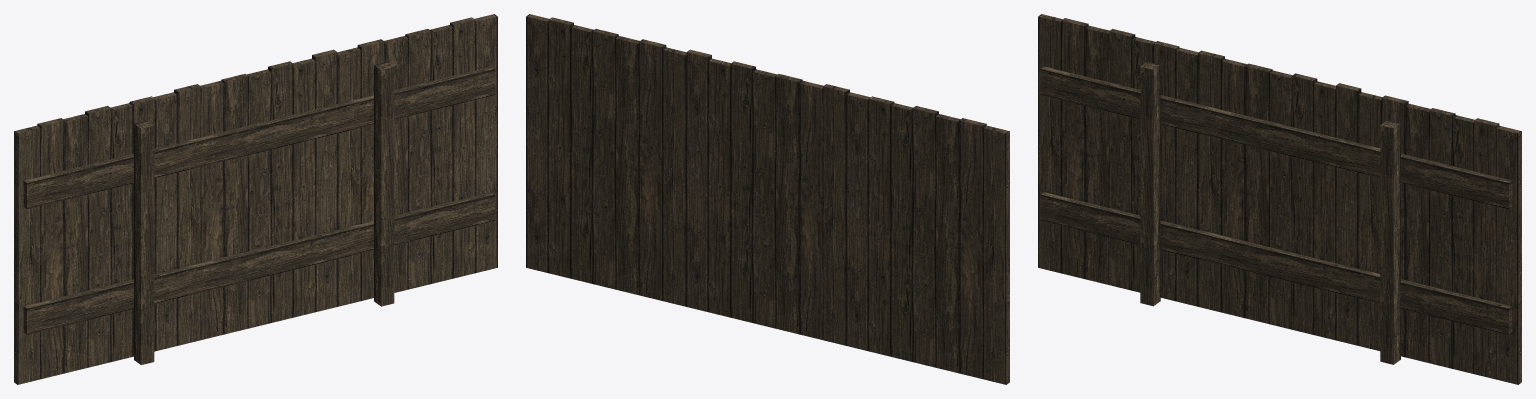
The model's file is fence_a_1.glb.
The picture shows the model from 3 angles, left to right: view 1: azimuth 30°, elevation 25°; view 2: azimuth 150°, elevation 25°; view 3: azimuth 330°, elevation 25°; orthographic projection.
Parts seen in each view (by area): view 1: fence_a_1; view 2: fence_a_1; view 3: fence_a_1.
Part boxes in pixels (bbox=[...]): fence_a_1: bbox=[14, 14, 497, 384]; fence_a_1: bbox=[526, 14, 1009, 384]; fence_a_1: bbox=[1038, 14, 1521, 384].
Bounding box in the file's own units: 4 × 2.03 × 0.2033.
Materials: 1 (1 with a texture image).
